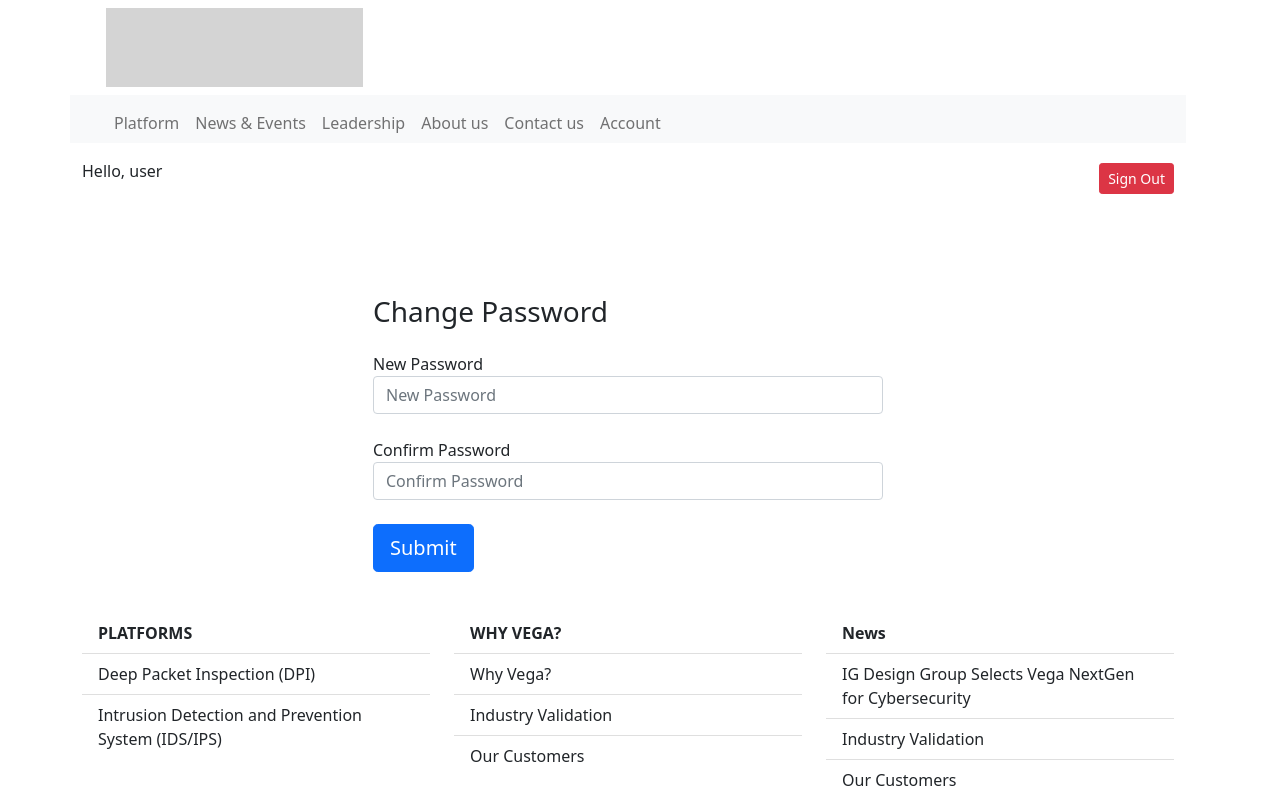
it: UserAccount › change password form › shows error message when newPassword is empty
In the password field labelled "Confirm Password": (628, 482) x1=373 y1=462 x2=883 y2=500, type "12345678"
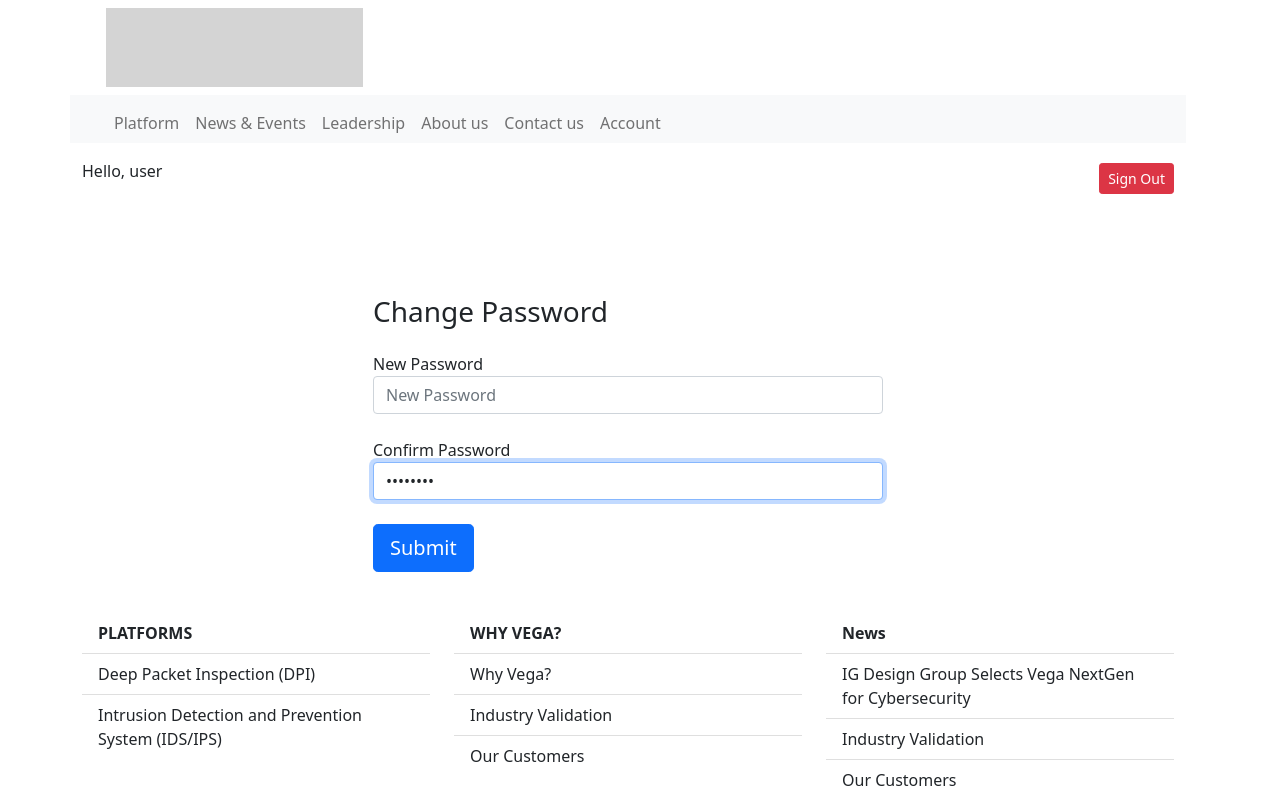
Click the button "Submit": (423, 548) x1=373 y1=524 x2=474 y2=572
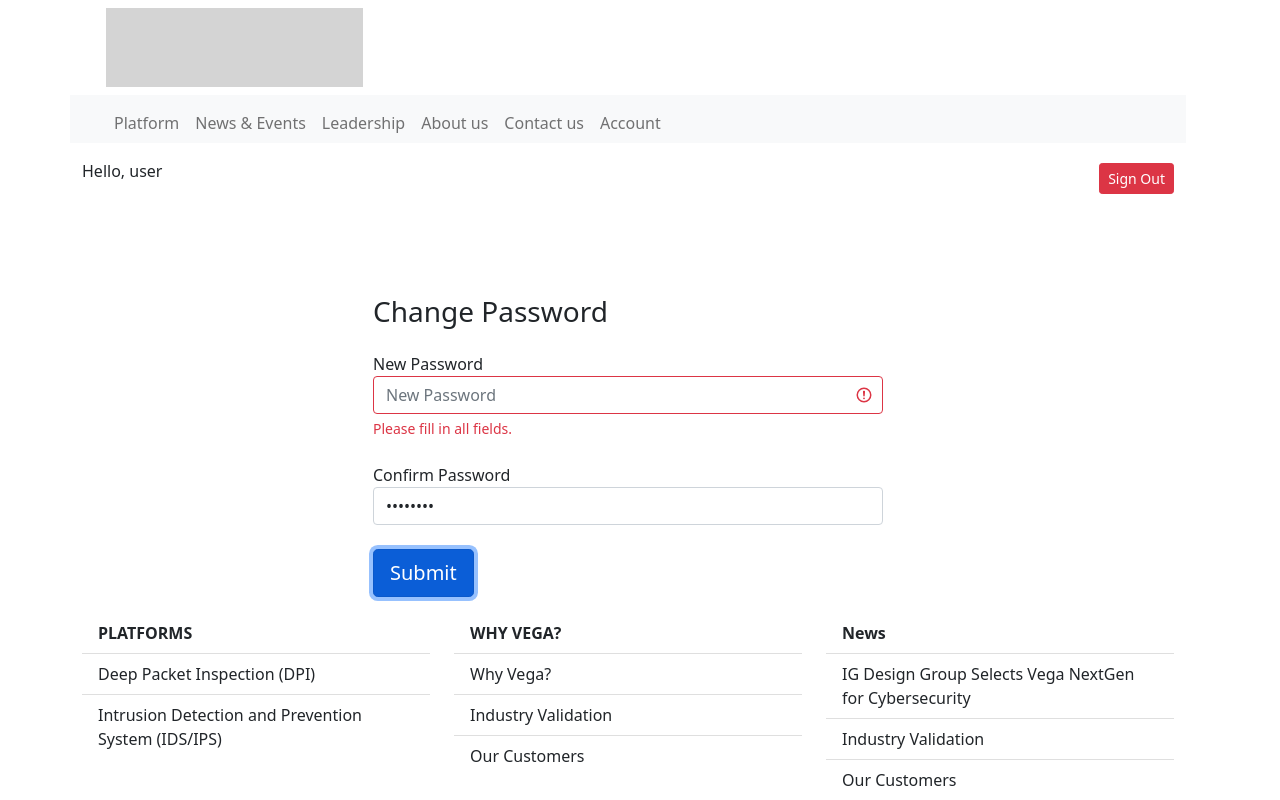
Check: the text "Please fill in all fields." is shown, box x1=373 y1=420 x2=512 y2=438
